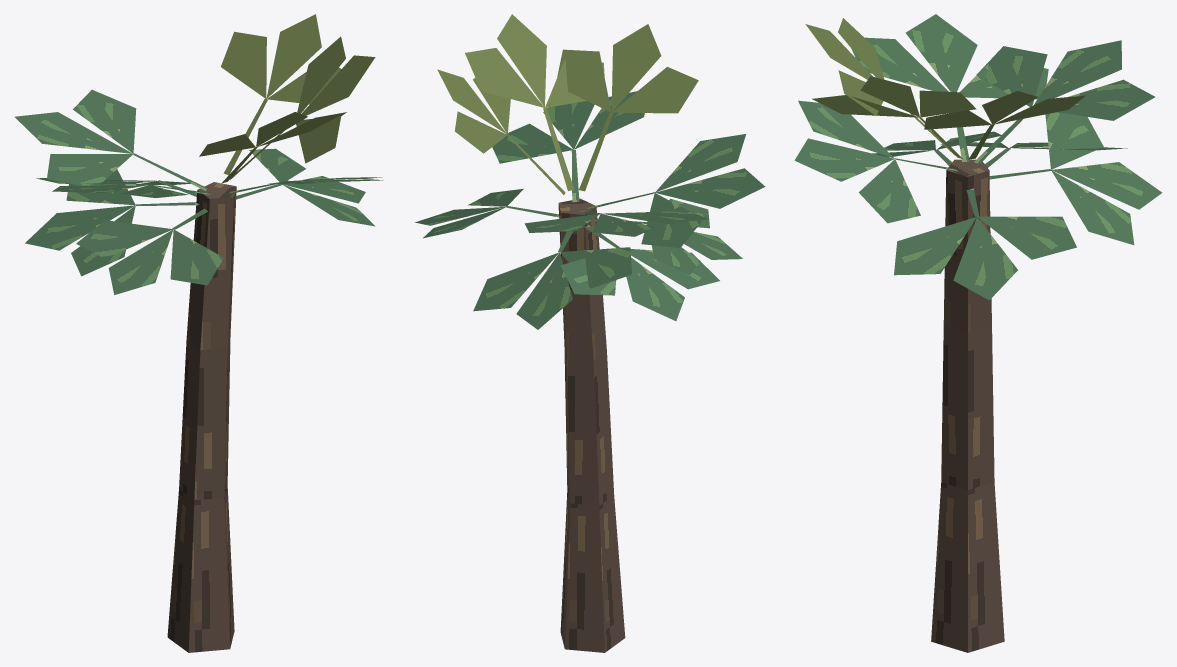
File: windmill-mid.glb
The picture shows the model from 3 angles, left to right: view 1: azimuth 30°, elevation 25°; view 2: azimuth 150°, elevation 25°; view 3: azimuth 270°, elevation 25°; orthographic projection. The views are drawn at different scales.
Visible parts, largest first — view 1: crown_windmill-mid, trunk_windmill-mid; view 2: crown_windmill-mid, trunk_windmill-mid; view 3: crown_windmill-mid, trunk_windmill-mid.
Part boxes in pixels (x1,y1,x2,y2): crown_windmill-mid: (14,14,383,294); trunk_windmill-mid: (167,182,236,652); crown_windmill-mid: (414,14,765,329); trunk_windmill-mid: (558,198,625,652); crown_windmill-mid: (794,14,1162,300); trunk_windmill-mid: (931,159,1004,652).
Size of the model in its own units: 3.83 by 6.31 by 3.36.
Materials: 2 (2 with a texture image).
